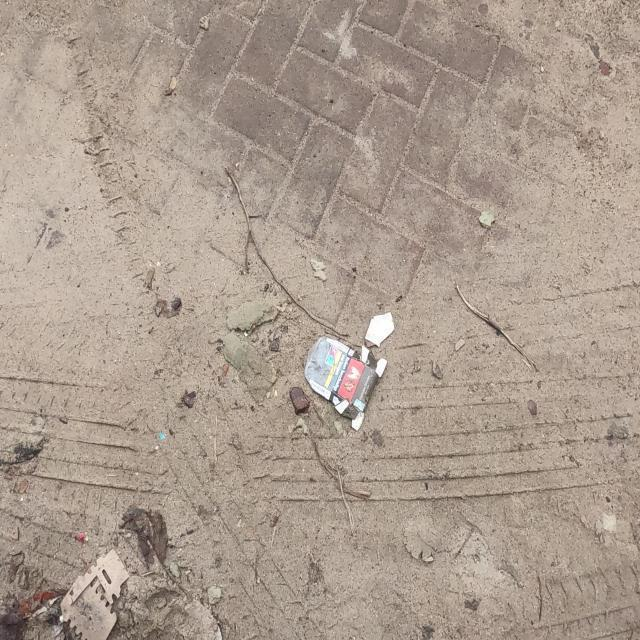Paper: (303, 336, 388, 432), (364, 311, 394, 349)
